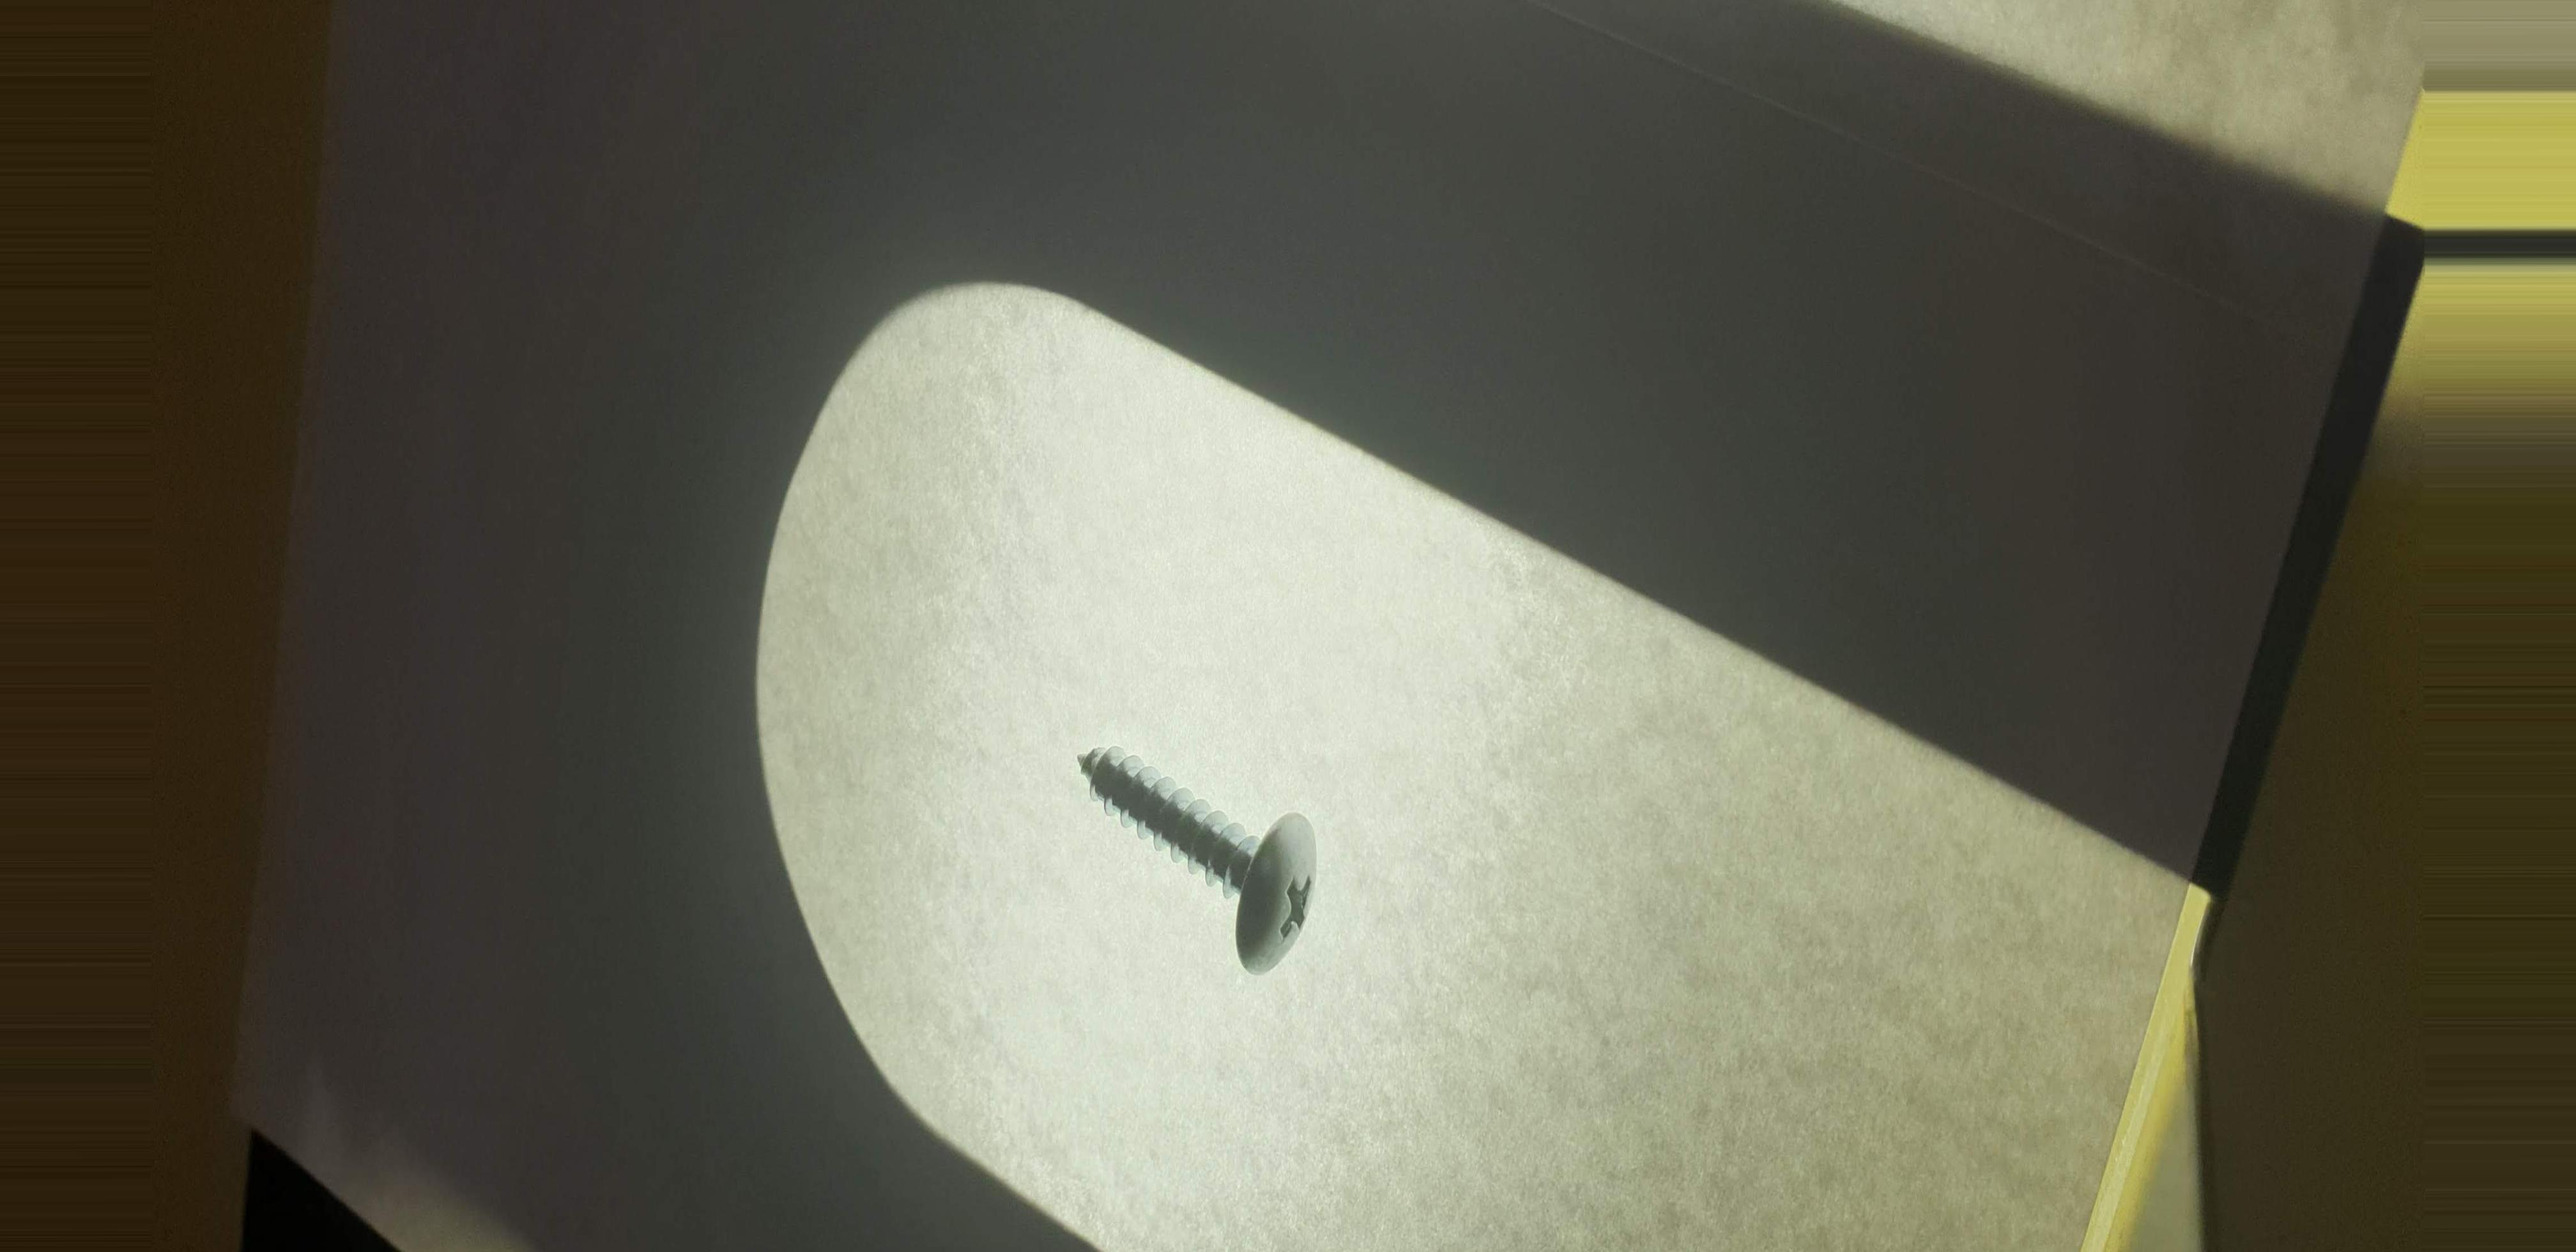S002: (1030, 716, 1360, 1007)
